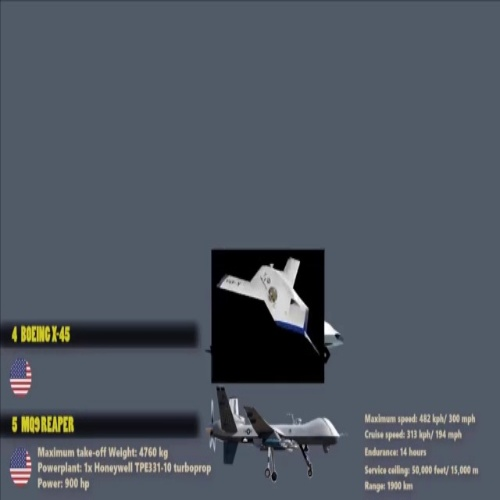uav879: (200, 383, 349, 485), (214, 255, 323, 359)
